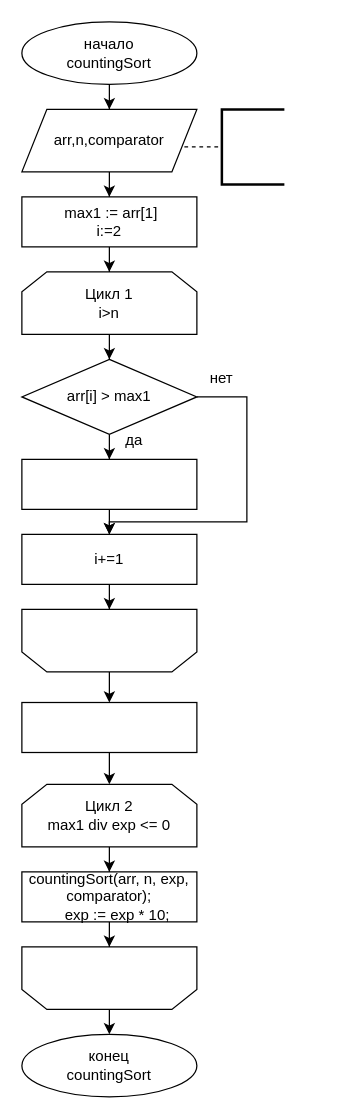
Some shapes in this 364 by 1119 pixel diagram are drawn without their labels. The shapes that lost their labels are listed below. From the top down, each one's centre as x and y in pixels, then its label:
At point 252,146: "переменные для процедуры, по ссылке".
At point 109,483: "max1 := arr[i]".
At point 109,640: "Цикл 1".
At point 109,726: "exp := 1".
At point 109,977: "Цикл 2".
